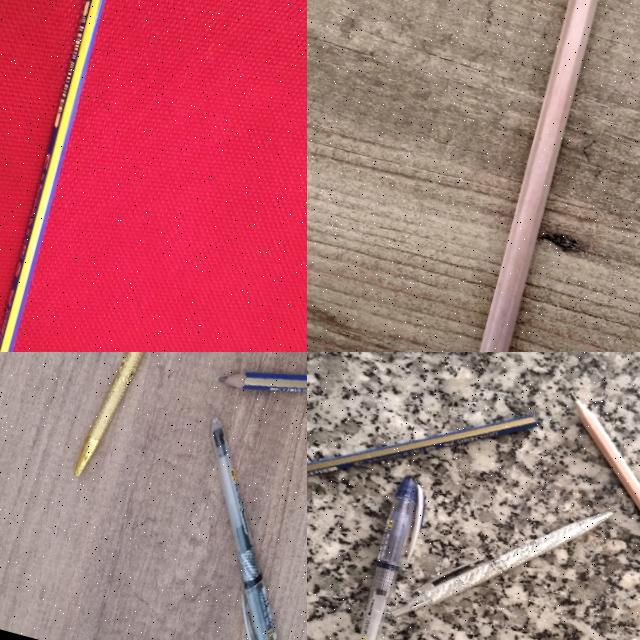pen: (150, 419, 307, 640), (343, 473, 432, 640), (307, 415, 537, 477), (401, 584, 639, 640)
pencil: (480, 0, 597, 351), (0, 0, 102, 351), (307, 416, 537, 476), (574, 398, 640, 508)
signature pen: (390, 512, 611, 616), (74, 352, 213, 489)
